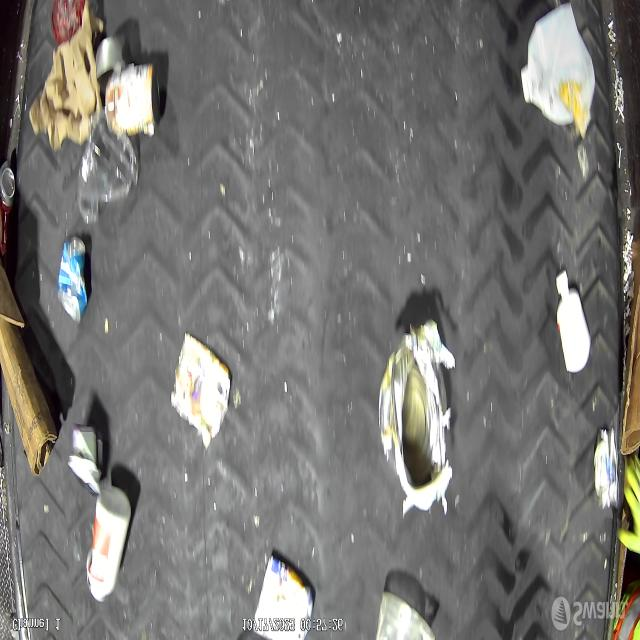can: (377, 321, 455, 519), (108, 60, 159, 135), (59, 235, 89, 322), (0, 161, 16, 257)
milk_jug: (522, 5, 595, 133)
